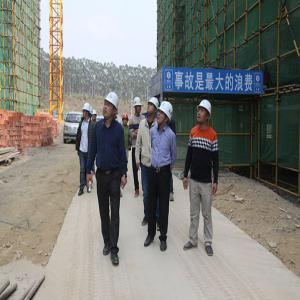red: (123, 114, 129, 127)
white: (102, 93, 120, 121), (157, 102, 173, 128), (198, 100, 213, 126), (148, 97, 159, 117), (134, 96, 143, 116), (83, 104, 91, 120), (93, 111, 98, 121)
